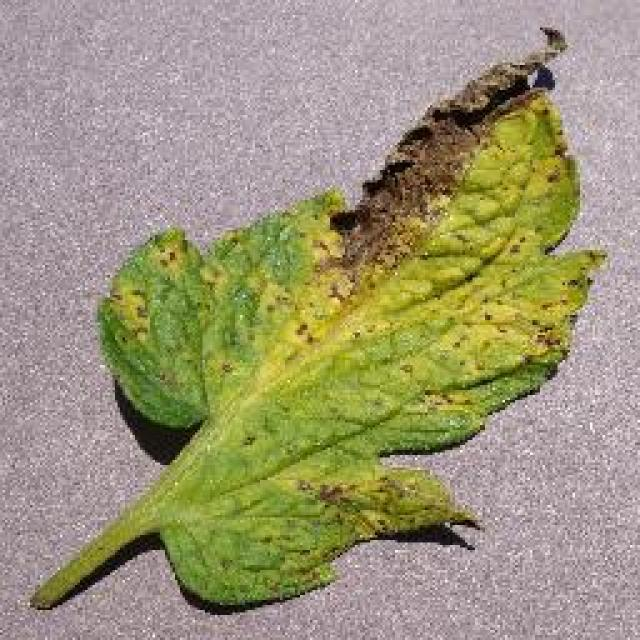Tomato___Septoria_leaf_spot: (32, 30, 602, 602)
